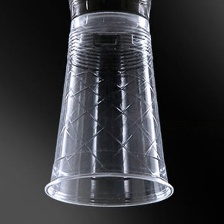glass: (40, 8, 178, 211)
